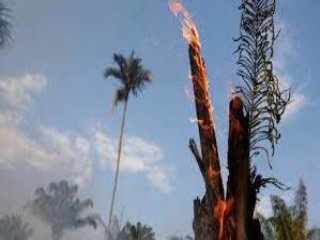fire: (166, 2, 240, 227)
